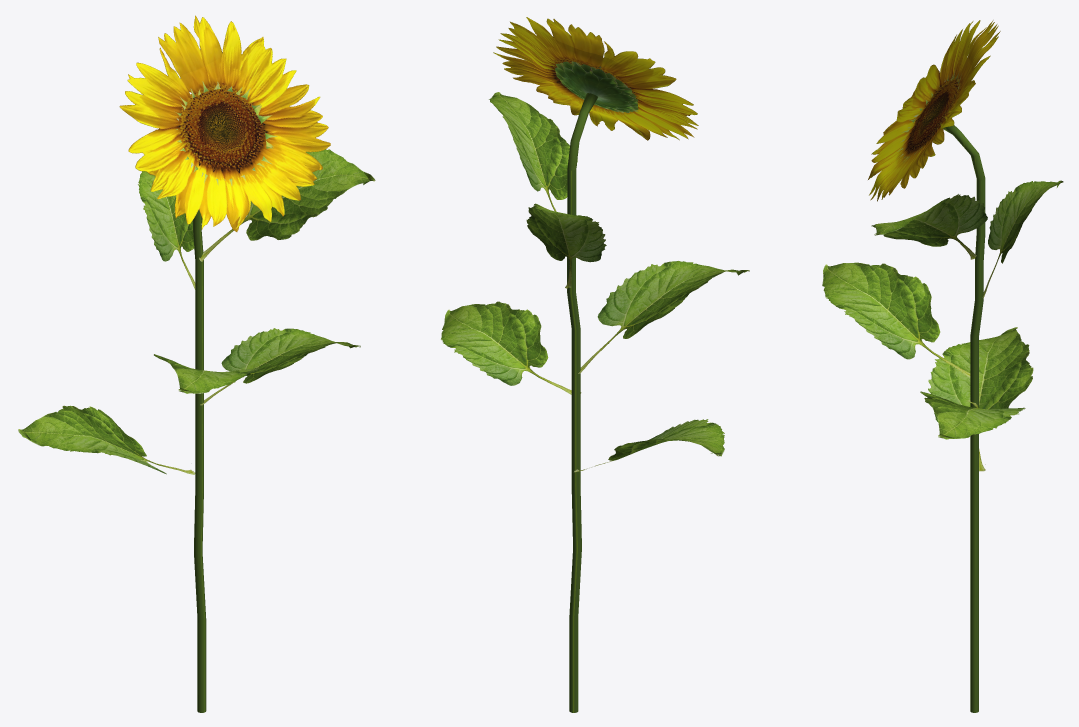
The model's file is Sunflower_grown.fbx.
3 renders of one model, left to right at view 1: azimuth 30°, elevation 25°; view 2: azimuth 150°, elevation 25°; view 3: azimuth 270°, elevation 25°, orthographic. The views are drawn at different scales.
Parts seen in each view (by area): view 1: pCylinder3, pasted__pCube2 (×3), pCylinder2, pCube2, pasted__pasted__pCube2; view 2: pasted__pCube2 (×3), pCylinder3, pCylinder2, pasted__pasted__pCube2, pCube2; view 3: pasted__pCube2 (×3), pCylinder3, pCube2, pCylinder2, pasted__pasted__pCube2.
Part boxes in pixels (x1,y1,x2,y2): pCylinder3: [119, 15, 330, 231]; pasted__pCube2 (×3): [154, 149, 375, 405]; pCylinder2: [174, 81, 277, 712]; pCube2: [18, 405, 195, 474]; pasted__pasted__pCube2: [138, 171, 202, 289]; pasted__pCube2 (×3): [441, 92, 749, 394]; pCylinder3: [493, 17, 698, 140]; pCylinder2: [555, 61, 638, 712]; pasted__pasted__pCube2: [526, 203, 606, 288]; pCube2: [574, 419, 724, 472]; pasted__pCube2 (×3): [822, 194, 1025, 439]; pCylinder3: [868, 20, 1000, 201]; pCube2: [928, 327, 1033, 471]; pCylinder2: [897, 67, 985, 712]; pasted__pasted__pCube2: [982, 180, 1063, 298].
Size of the model in its own units: 37.2 by 78.66 by 28.63.
